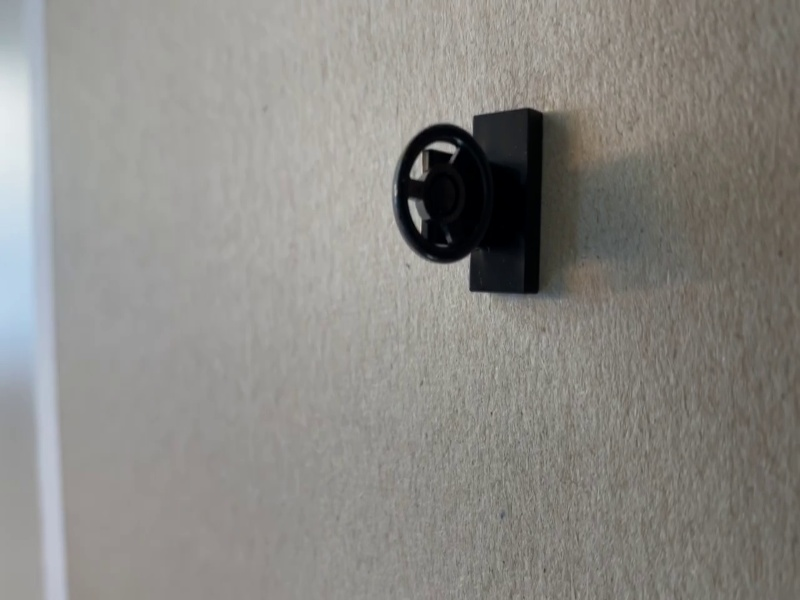steering wheel: (392, 108, 545, 297)
